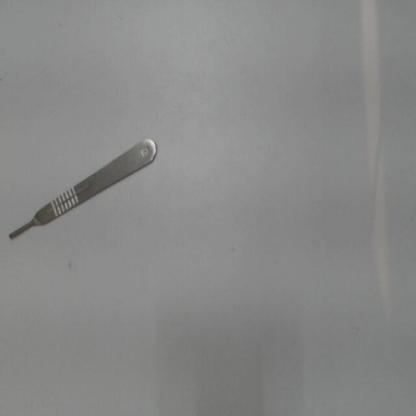No.3 BP Handle: (3, 128, 164, 248)
